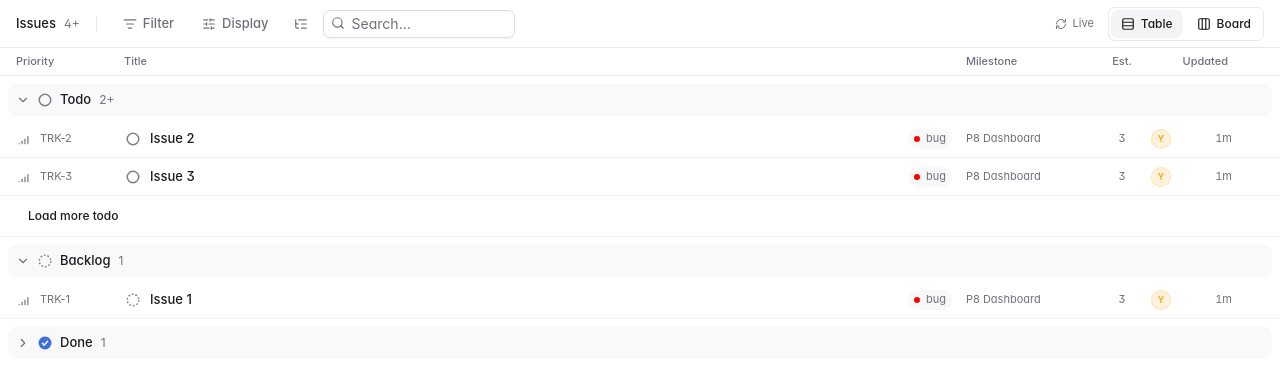
Test: IssuesView table › collapses and expands a group from the keyboard-reachable toggle
The image size is (1280, 376).
Click the button "Backlog 1" at {"x": 85, "y": 260}, box x1=16 y1=245 x2=1264 y2=277
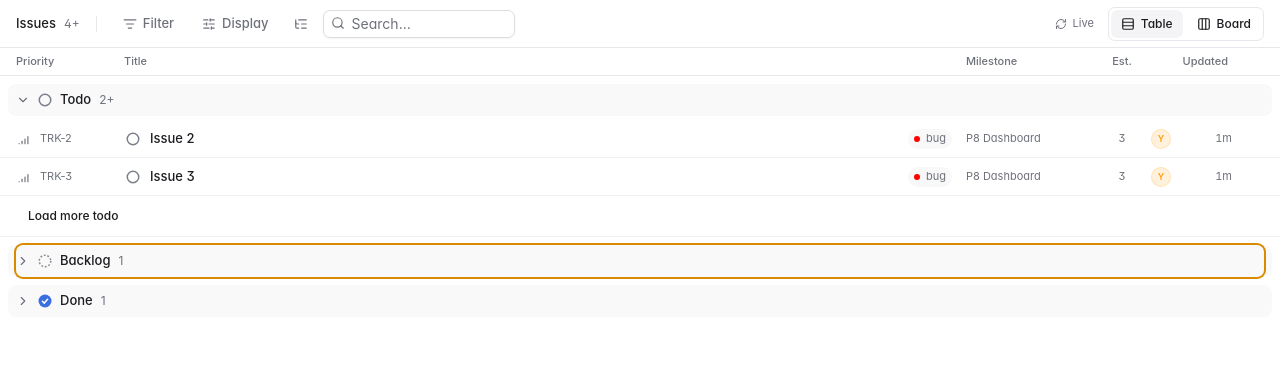
Result: the link "Issue 1" is gone
Click the button "Done 1" at {"x": 76, "y": 300}, box x1=16 y1=285 x2=1264 y2=317
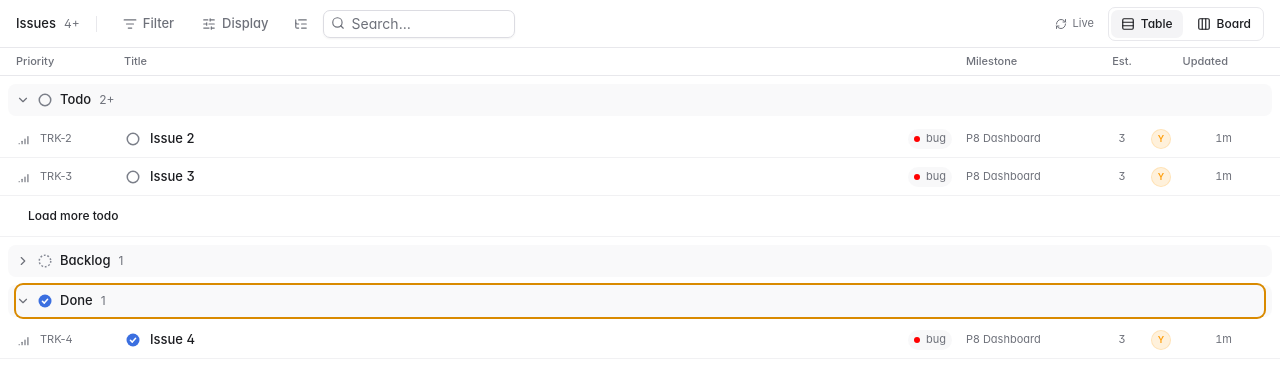
Result: the link "Issue 4" is shown at x1=150 y1=331 x2=195 y2=347
